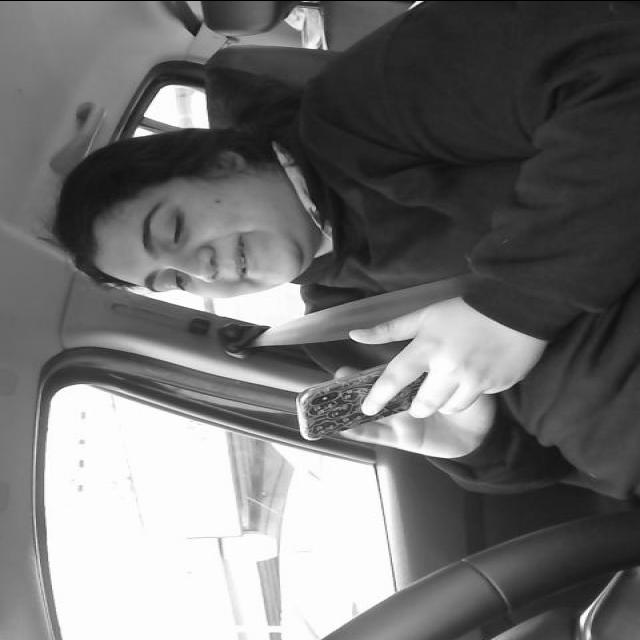mobile use: (288, 362, 446, 439)
